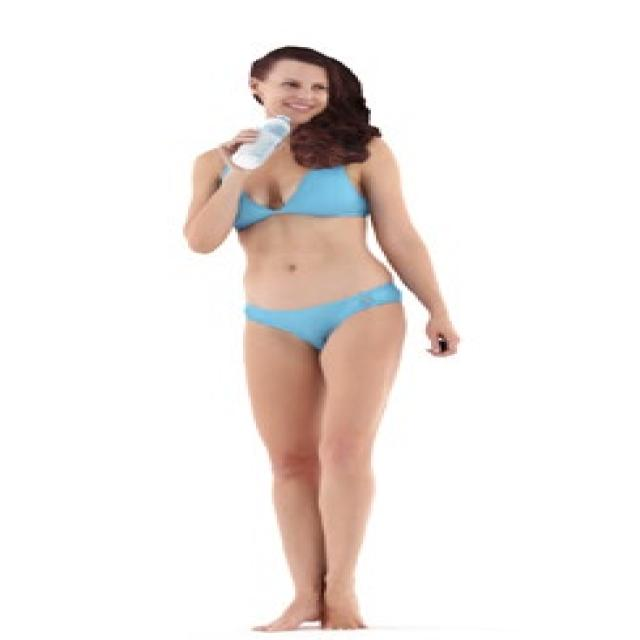standing: (182, 44, 466, 634)
